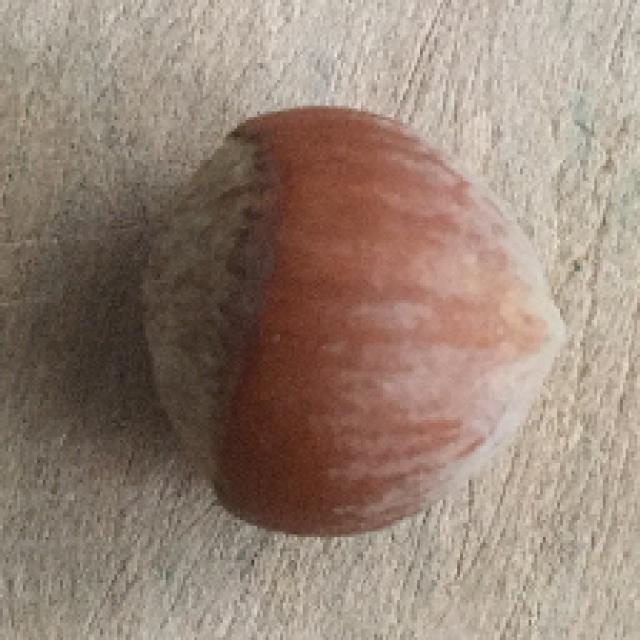qualityHazelnut: (128, 110, 582, 545)
